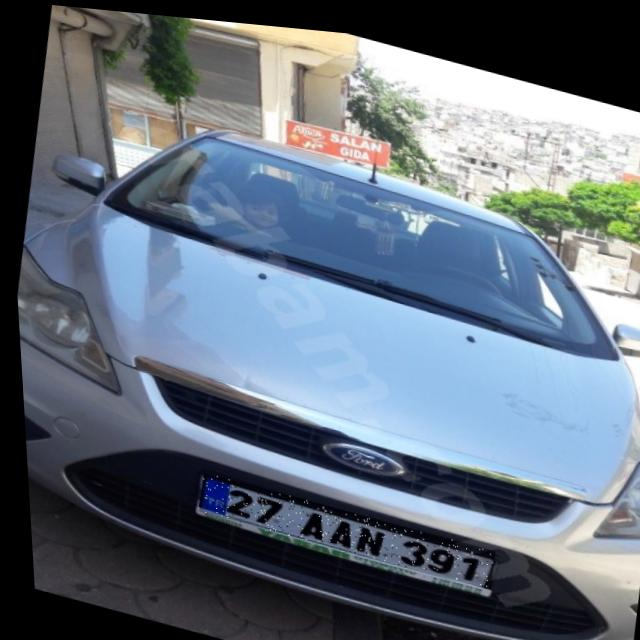license_plate: (190, 468, 490, 580)
